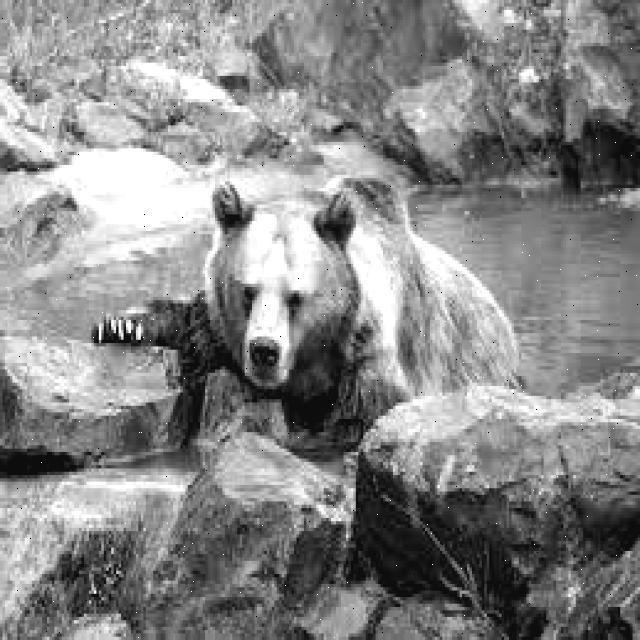bear: (163, 122, 495, 428)
